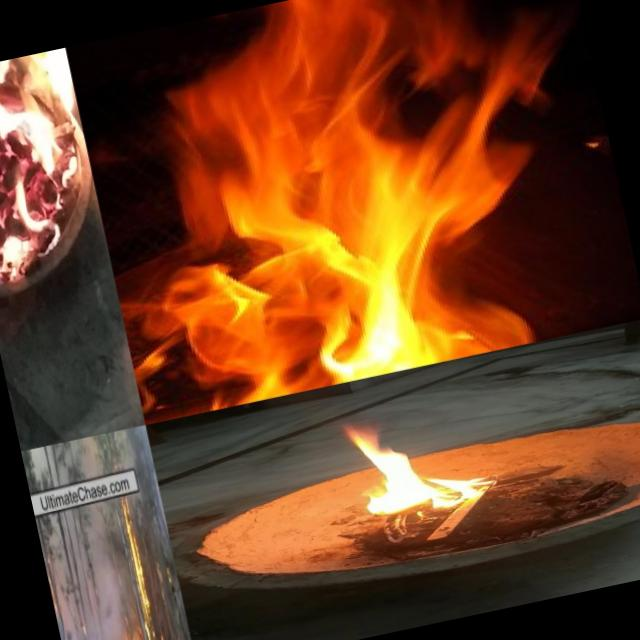fire: (69, 0, 631, 424), (0, 47, 112, 296), (314, 394, 502, 530), (114, 503, 162, 640), (109, 629, 148, 640), (161, 630, 193, 640)
smoke: (54, 599, 122, 640)
